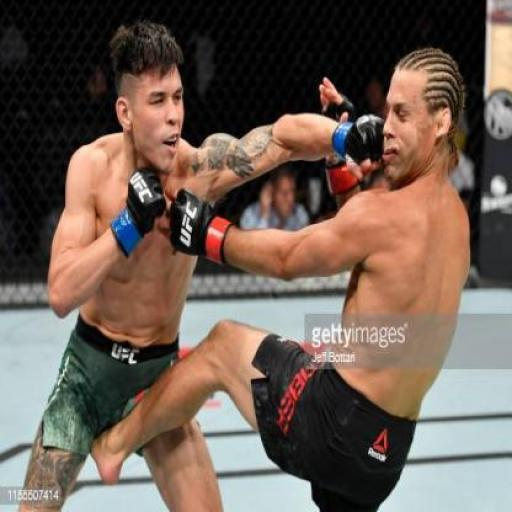Fighting: (15, 17, 473, 512)
